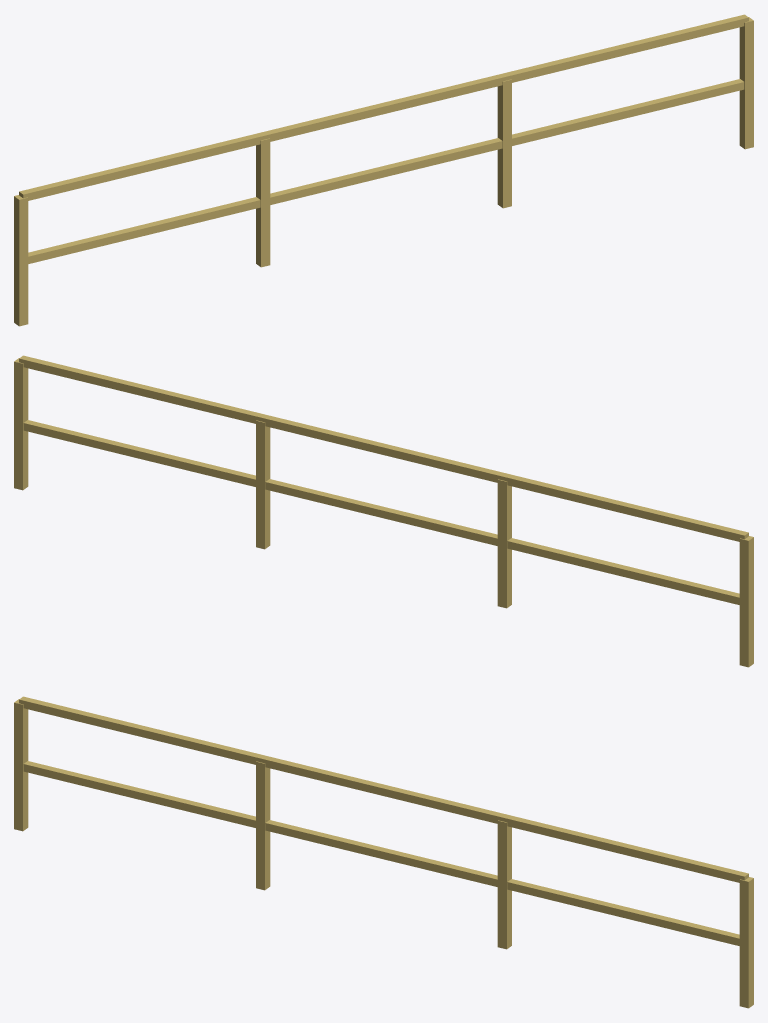
3 views of the same model, one above another, from view 1: azimuth 30°, elevation 25°; view 2: azimuth 150°, elevation 25°; view 3: azimuth 330°, elevation 25° (orthographic).
Parts seen in each view (by area): view 1: prop_pipe_railing; view 2: prop_pipe_railing; view 3: prop_pipe_railing.
Boxes of the visible parts, <box> form: prop_pipe_railing: <box>14,14,753,326</box>; prop_pipe_railing: <box>14,355,753,667</box>; prop_pipe_railing: <box>14,696,753,1008</box>.
Size of the model in its own units: 6.07 by 1.03 by 0.0749.
